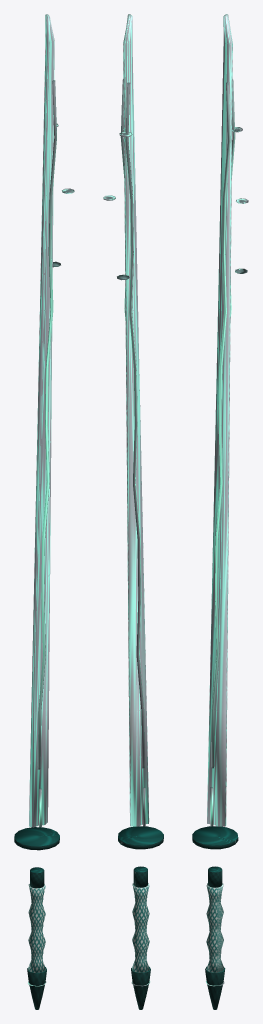
Rendered from sword_09_phantom_nodachi.glb.
The picture shows the model from 3 angles, left to right: view 1: azimuth 30°, elevation 25°; view 2: azimuth 210°, elevation 25°; view 3: azimuth 330°, elevation 25°; orthographic projection.
Parts seen in each view (by area): view 1: Blade_PhantomNodachi, Inlay_GhostHamon, Grip_SilkIto, Tsuba_PhantomSeal, Pommel_KabutoGashira, Collar_TealFerrule; view 2: Blade_PhantomNodachi, Inlay_GhostHamon, Grip_SilkIto, Tsuba_PhantomSeal, Pommel_KabutoGashira, Collar_TealFerrule, Wisps_GhostFlame; view 3: Blade_PhantomNodachi, Inlay_GhostHamon, Grip_SilkIto, Tsuba_PhantomSeal, Pommel_KabutoGashira, Collar_TealFerrule, Wisps_GhostFlame.
Boxes of the visible parts, bbox=[...] form: Blade_PhantomNodachi: bbox=[29, 14, 54, 827]; Inlay_GhostHamon: bbox=[37, 80, 56, 769]; Grip_SilkIto: bbox=[28, 884, 45, 972]; Tsuba_PhantomSeal: bbox=[14, 827, 59, 850]; Pommel_KabutoGashira: bbox=[27, 967, 46, 1009]; Collar_TealFerrule: bbox=[30, 867, 44, 888]; Blade_PhantomNodachi: bbox=[123, 14, 149, 826]; Inlay_GhostHamon: bbox=[120, 79, 144, 768]; Grip_SilkIto: bbox=[132, 883, 149, 972]; Tsuba_PhantomSeal: bbox=[118, 826, 163, 849]; Pommel_KabutoGashira: bbox=[131, 966, 150, 1009]; Collar_TealFerrule: bbox=[133, 866, 147, 887]; Wisps_GhostFlame: bbox=[103, 131, 132, 280]; Blade_PhantomNodachi: bbox=[207, 14, 232, 826]; Inlay_GhostHamon: bbox=[211, 79, 235, 768]; Grip_SilkIto: bbox=[206, 883, 223, 972]; Tsuba_PhantomSeal: bbox=[192, 826, 238, 849]; Pommel_KabutoGashira: bbox=[205, 966, 225, 1009]; Collar_TealFerrule: bbox=[208, 866, 222, 887]; Wisps_GhostFlame: bbox=[232, 127, 248, 273].
Bounding box in the file's own units: 0.1507 × 2.6 × 0.1098.
1 material, 1 textured.
